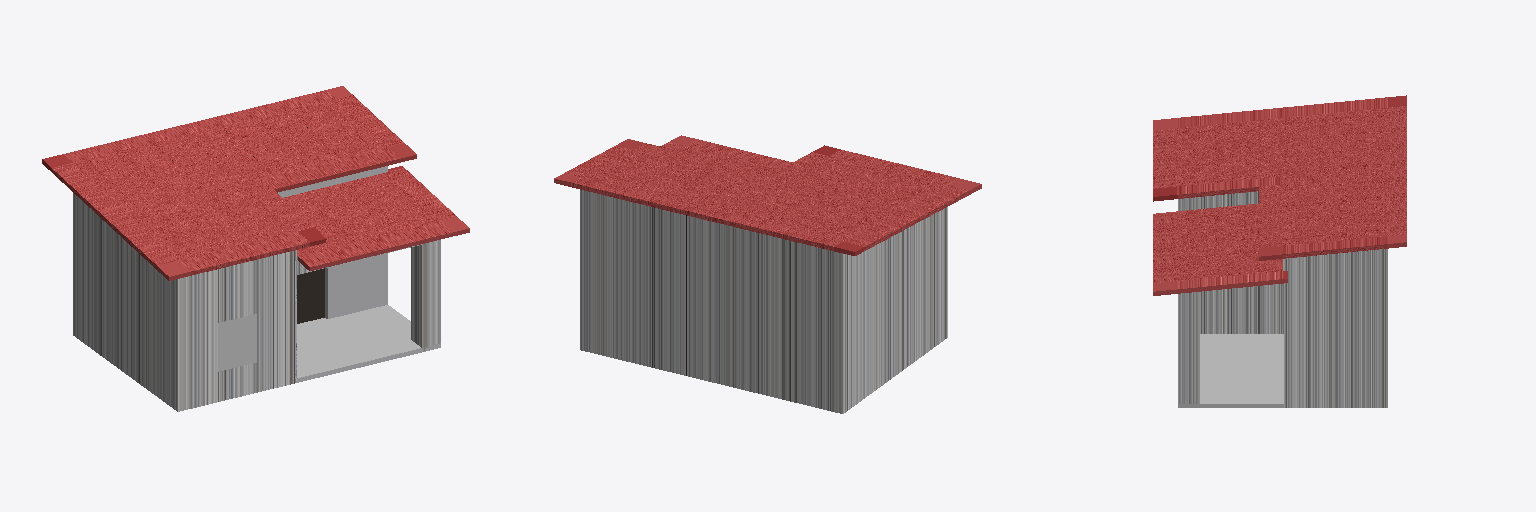
3 views of the same model, side by side, from view 1: azimuth 30°, elevation 25°; view 2: azimuth 150°, elevation 25°; view 3: azimuth 270°, elevation 25° (orthographic).
Visible parts, largest first — view 1: Plano; view 2: Plano; view 3: Plano.
Part boxes in pixels (bbox=[...]): Plano: bbox=[42, 86, 469, 411]; Plano: bbox=[554, 135, 981, 413]; Plano: bbox=[1153, 95, 1406, 407].
Bounding box in the file's own units: 14.27 × 7.9 × 10.45.
4 materials, 3 textured.